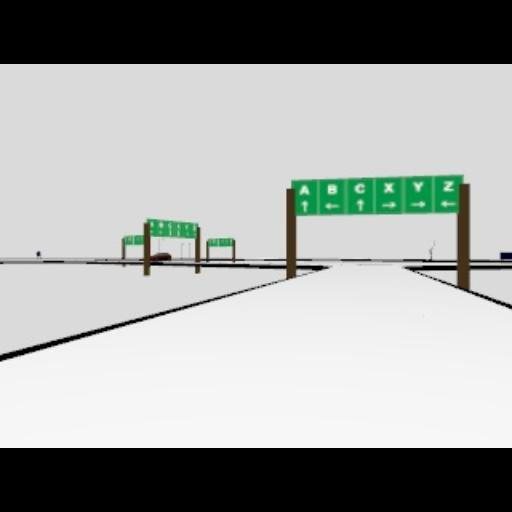A: (298, 184, 308, 196)
B: (326, 182, 338, 194)
C: (354, 182, 364, 194)
Left: (323, 202, 339, 210), (440, 200, 456, 206)
Right: (381, 200, 397, 208), (410, 200, 426, 206)
Straight: (356, 198, 364, 212), (301, 200, 307, 212)
X: (382, 180, 394, 192)
Y: (412, 180, 422, 192)
Z: (442, 180, 454, 192)
